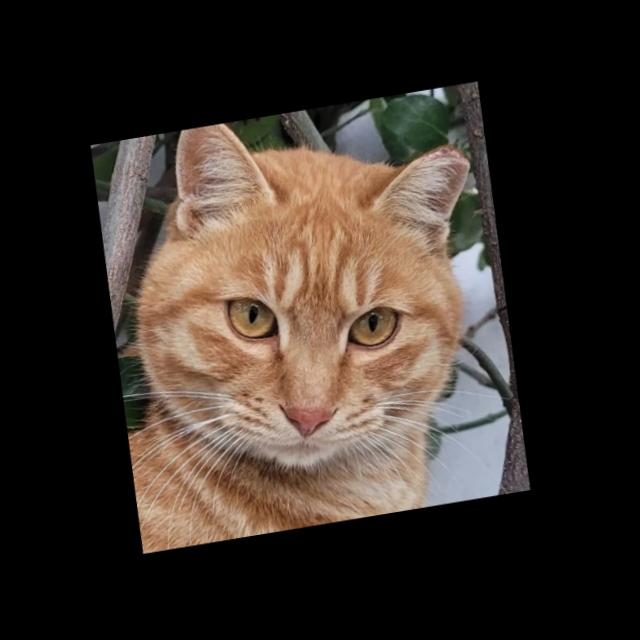animals: (98, 84, 522, 494)
